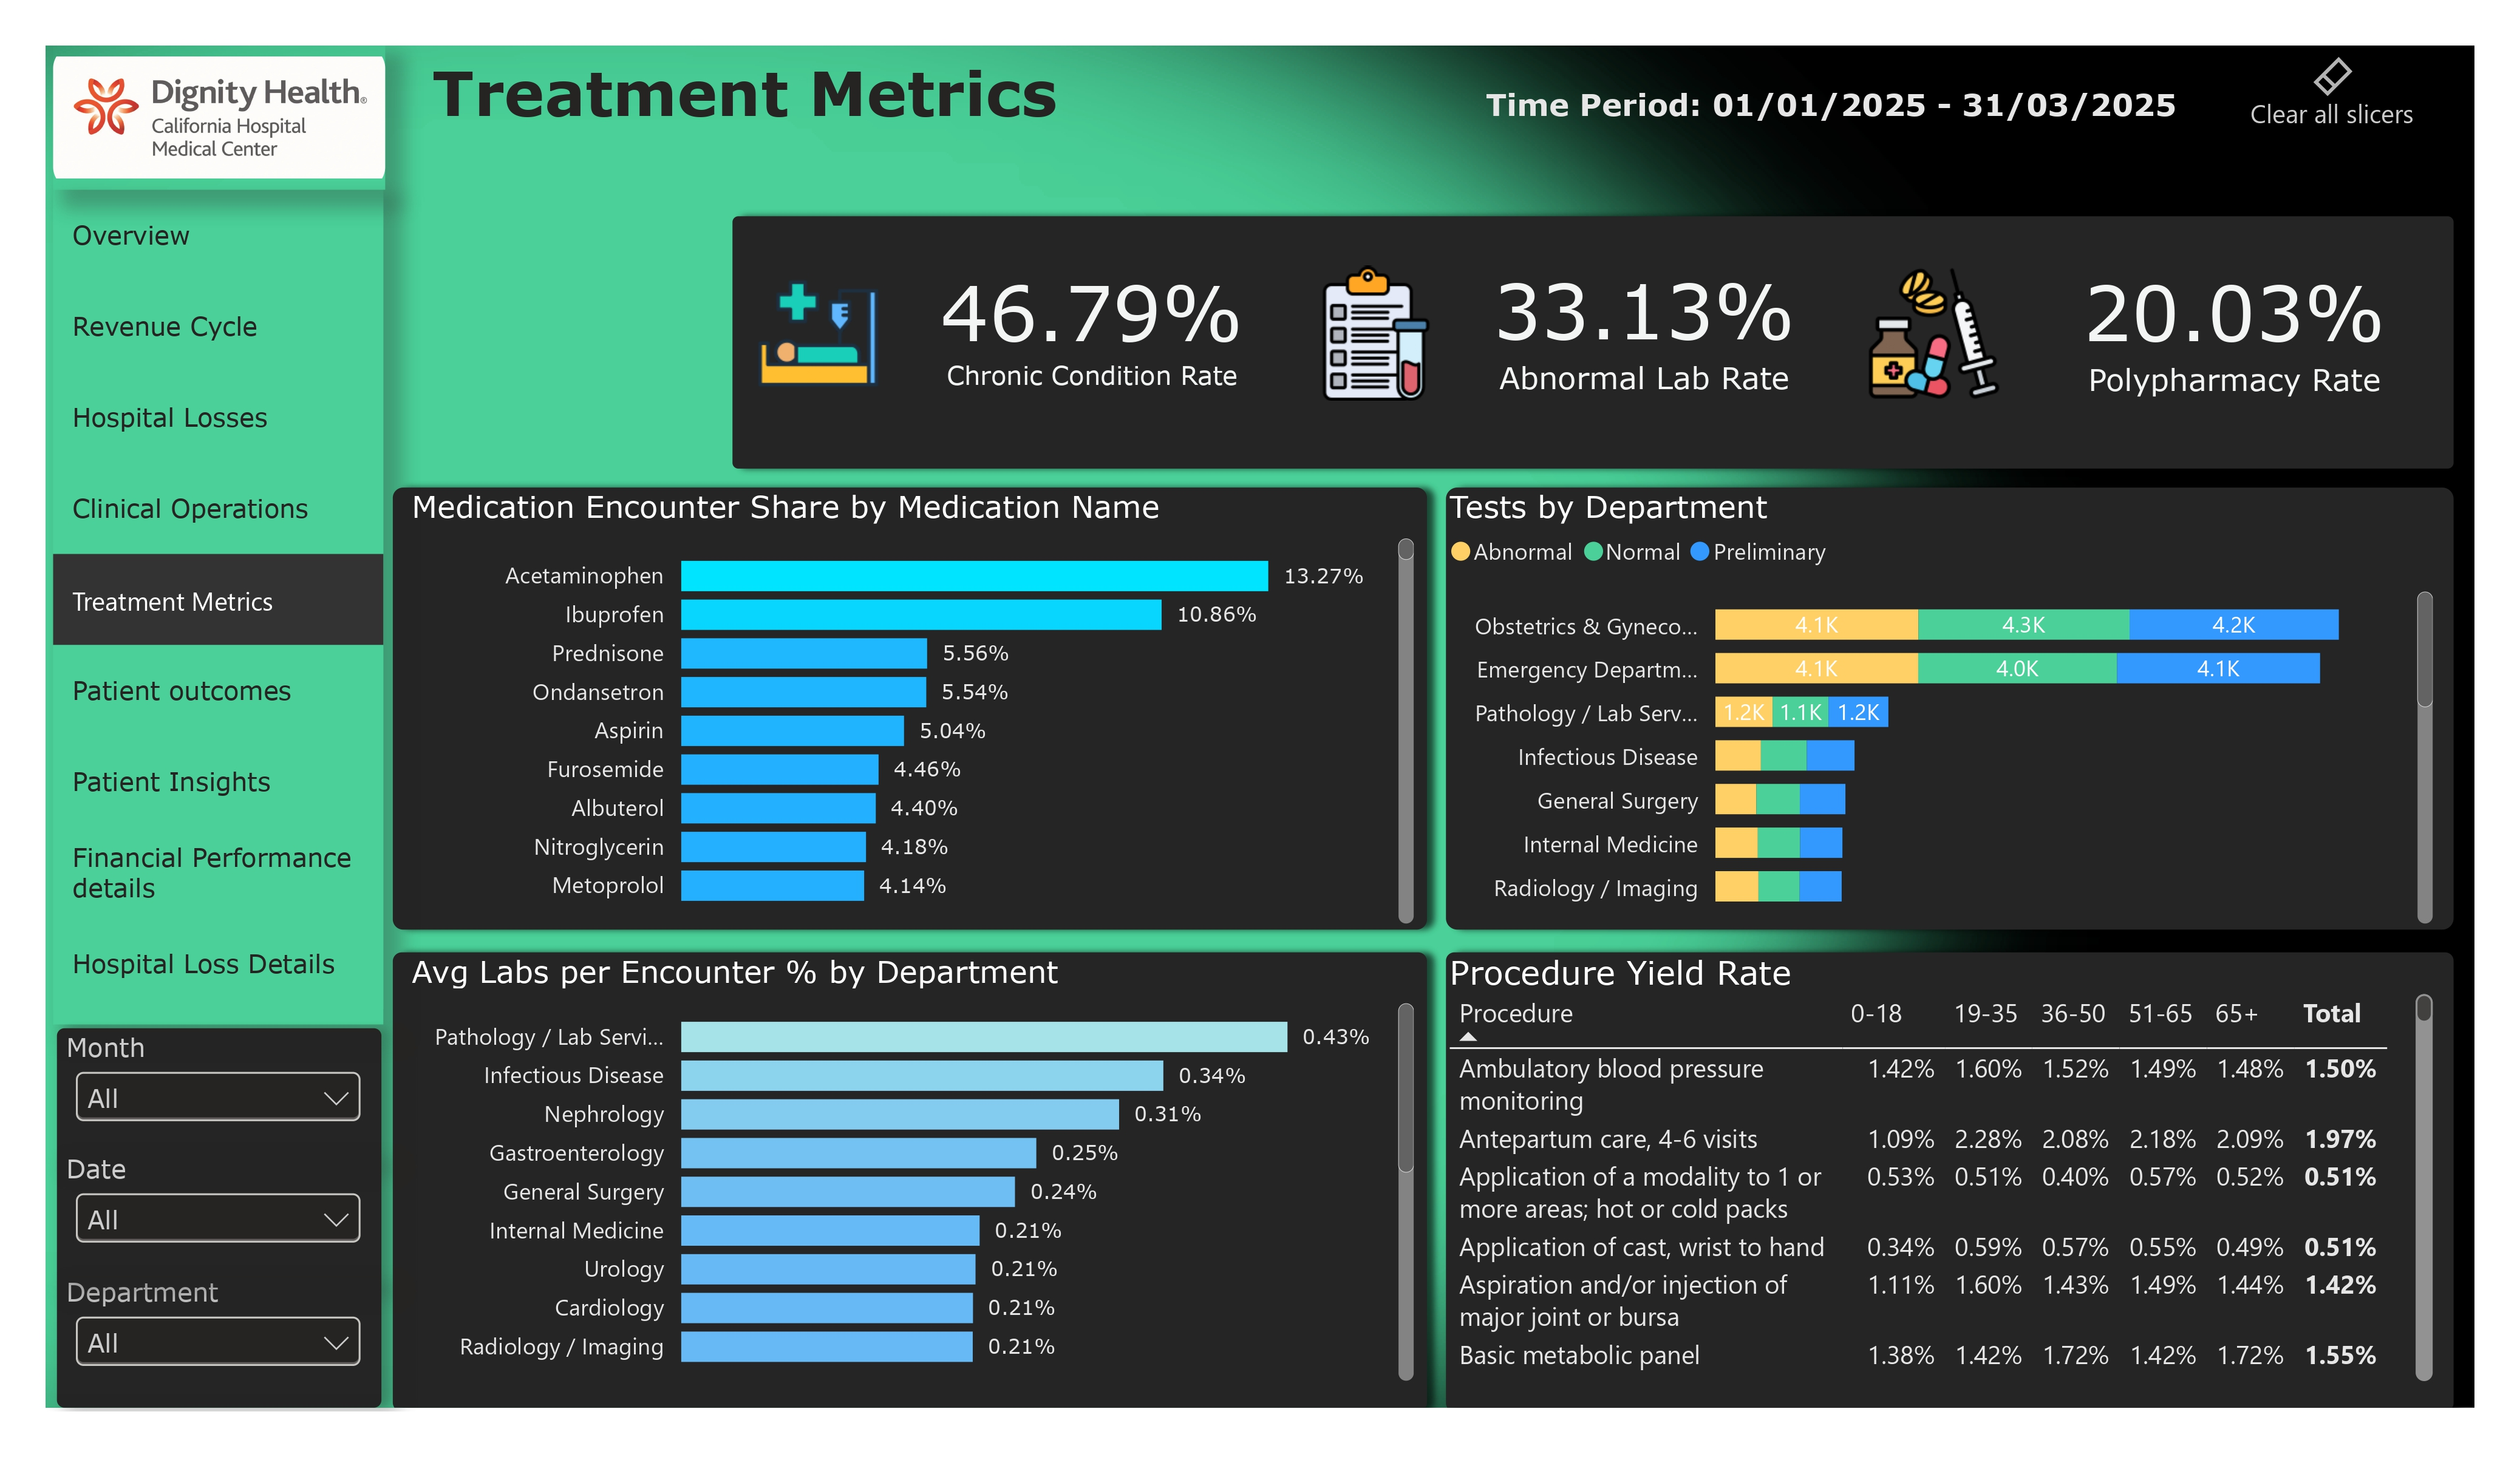

What the dashboard file says about the page in this screenshot:
{"tool":"powerbi","page":{"name":"Treatment Metrics","canvas":[1280,720],"ordinal":4},"visuals":[{"type":"pageNavigator","box":[3.8,76.2,174,440],"z":0},{"type":"cardVisual","fields":{"Data":["_Measures.Polypharmacy Rate"]},"box":[1043.8,88.8,218.8,135],"z":1000},{"type":"slicer","title":"Department","fields":{"Values":["Encounters.department"]},"box":[6,649.1,170.1,61.5],"z":2000},{"type":"slicer","title":"Month","fields":{"Values":["Calendar.Month Name"]},"box":[6.3,520.3,170,64.1],"z":3000},{"type":"textbox","box":[198.8,0,931.2,53.8],"z":4000},{"type":"cardVisual","fields":{"Data":["_Measures.Abnormal Lab Rate"]},"box":[735,87.5,215,135],"z":5000},{"type":"slicer","title":"Date","fields":{"Values":["Encounters.admission_date"]},"box":[6.3,584.4,170,64.1],"z":6000},{"type":"actionButton","box":[1130,0,150,50],"z":7000},{"type":"image","box":[3.8,0,175,76.2],"z":8000},{"type":"cardVisual","fields":{"Data":["_Measures.Chronic Condition Rate"]},"box":[443.8,88.8,215,135],"z":9000},{"type":"pivotTable","title":"Procedure Yield Rate","fields":{"Values":["_Measures.Procedure Yield Rate"],"Columns":["Patients.Age Group"],"Rows":["Procedures.procedure_description"]},"box":[735,477.5,527.5,231.2],"z":10000},{"type":"barChart","title":"Tests by Department","fields":{"Category":["Encounters.department"],"Y":["CountNonNull(Lab tests.test_id)"],"Series":["Lab tests.result_value"]},"box":[735,232.5,527.5,235],"z":11000},{"type":"barChart","fields":{"Category":["Encounters.department"],"Y":["_Measures.Avg Labs per Encounter"]},"box":[187.5,477.5,538.8,231.2],"z":12000},{"type":"barChart","fields":{"Category":["Medications.medication_name"],"Y":["_Measures.Medication Encounter Share"]},"box":[187.5,232.5,538.8,235],"z":13000}]}

Visuals, with their boxes on the page's 1280x720 design canvas (x1, y1, x2, y2). These are canvas units, not pixel positions in the 2520x1457 screenshot, which may show the page scaled, cropped or inside an application window:
pageNavigator: {"left": 4, "top": 76, "right": 178, "bottom": 516}
cardVisual - _Measures.Polypharmacy Rate: {"left": 1044, "top": 89, "right": 1263, "bottom": 224}
"Department" slicer: {"left": 6, "top": 649, "right": 176, "bottom": 711}
"Month" slicer: {"left": 6, "top": 520, "right": 176, "bottom": 584}
textbox: {"left": 199, "top": 0, "right": 1130, "bottom": 54}
cardVisual - _Measures.Abnormal Lab Rate: {"left": 735, "top": 88, "right": 950, "bottom": 222}
"Date" slicer: {"left": 6, "top": 584, "right": 176, "bottom": 648}
actionButton: {"left": 1130, "top": 0, "right": 1280, "bottom": 50}
image: {"left": 4, "top": 0, "right": 179, "bottom": 76}
cardVisual - _Measures.Chronic Condition Rate: {"left": 444, "top": 89, "right": 659, "bottom": 224}
"Procedure Yield Rate" pivotTable: {"left": 735, "top": 478, "right": 1262, "bottom": 709}
"Tests by Department" barChart: {"left": 735, "top": 232, "right": 1262, "bottom": 468}
barChart - Encounters.department x _Measures.Avg Labs per Encounter: {"left": 188, "top": 478, "right": 726, "bottom": 709}
barChart - Medications.medication_name x _Measures.Medication Encounter Share: {"left": 188, "top": 232, "right": 726, "bottom": 468}
